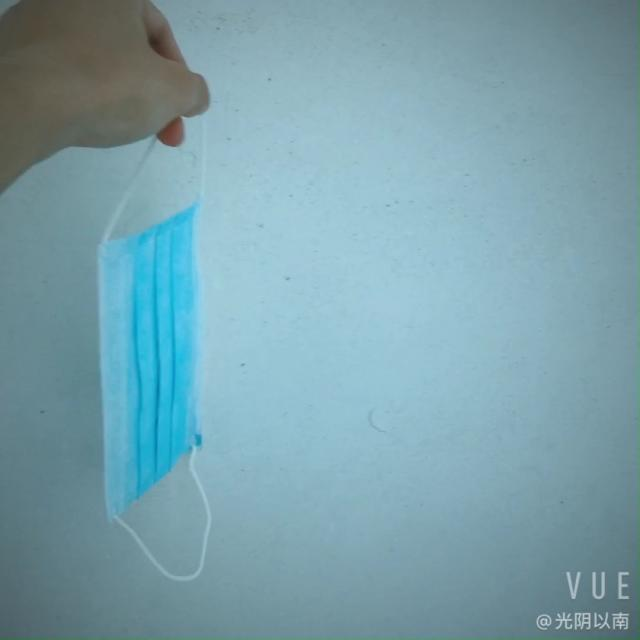face mask: (58, 203, 211, 522)
